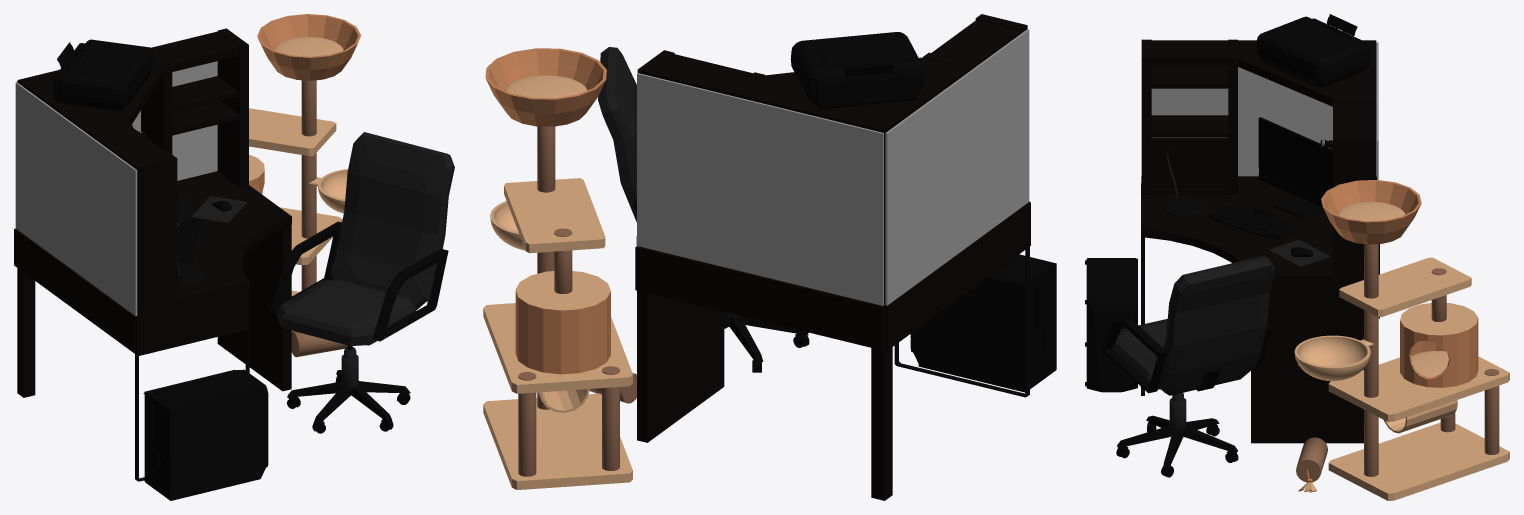
The model's file is My Workplace.fbx.
3 views of the same model, side by side, from view 1: azimuth 30°, elevation 25°; view 2: azimuth 150°, elevation 25°; view 3: azimuth 270°, elevation 25° (orthographic). The views are drawn at different scales.
Visible parts, largest first — view 1: Upper_Backwall_left, Back.001, Side_cup_left, Tabletop, Lower_sidewall_right, Sidewall_left_1, Seat, Base, Lower_backwall_left, Basket, Lower_sidewall_left, Sidewall_right_2 (+28 smaller); view 2: Upper_Backwall_right, Upper_Backwall_left, Lower_backwall_right, Lower_sidewall_right, Side_cup_right, House, Lower_shelf, Lower_backwall_left, Basket, Top_shelf, Top_cap_middle, Base (+17 smaller); view 3: Lower_sidewall_right, Back.001, Tabletop, Upper_Backwall_left, Lower_shelf, Base, House, Middle_shelf, Basket, Top_shelf, Screen, Cup_of_shelf (+31 smaller).
Boxes of the visible parts, <box> form: Upper_Backwall_left: <box>15,82,137,315</box>; Back.001: <box>331,132,454,309</box>; Side_cup_left: <box>171,389,260,500</box>; Tabletop: <box>137,171,291,316</box>; Lower_sidewall_right: <box>217,225,291,391</box>; Sidewall_left_1: <box>133,154,177,308</box>; Seat: <box>277,279,416,345</box>; Base: <box>58,39,153,111</box>; Lower_backwall_left: <box>14,228,136,353</box>; Basket: <box>257,14,360,80</box>; Lower_sidewall_left: <box>136,290,249,353</box>; Sidewall_right_2: <box>217,28,248,187</box>; Upper_Backwall_right: <box>637,73,883,305</box>; Upper_Backwall_left: <box>885,29,1029,305</box>; Lower_backwall_right: <box>635,246,884,350</box>; Lower_sidewall_right: <box>637,290,724,442</box>; Side_cup_right: <box>918,277,1025,392</box>; House: <box>515,271,610,374</box>; Lower_shelf: <box>483,393,632,489</box>; Lower_backwall_left: <box>885,202,1030,349</box>; Basket: <box>485,48,606,126</box>; Top_shelf: <box>504,178,605,253</box>; Top_cap_middle: <box>739,57,968,132</box>; Base: <box>790,32,924,104</box>; Lower_sidewall_right: <box>1251,283,1363,443</box>; Back.001: <box>1158,256,1274,395</box>; Tabletop: <box>1141,176,1376,283</box>; Upper_Backwall_left: <box>1151,67,1332,176</box>; Lower_shelf: <box>1328,422,1509,500</box>; Base: <box>1256,16,1369,87</box>; House: <box>1400,303,1478,387</box>; Middle_shelf: <box>1328,356,1509,421</box>; Basket: <box>1321,180,1421,244</box>; Top_shelf: <box>1339,257,1471,317</box>; Screen: <box>1259,118,1332,201</box>; Cup_of_shelf: <box>1151,138,1228,189</box>.
Size of the model in its own units: 363702 by 341438 by 389119.
